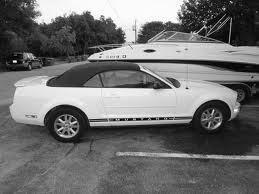car: (8, 58, 245, 146)
